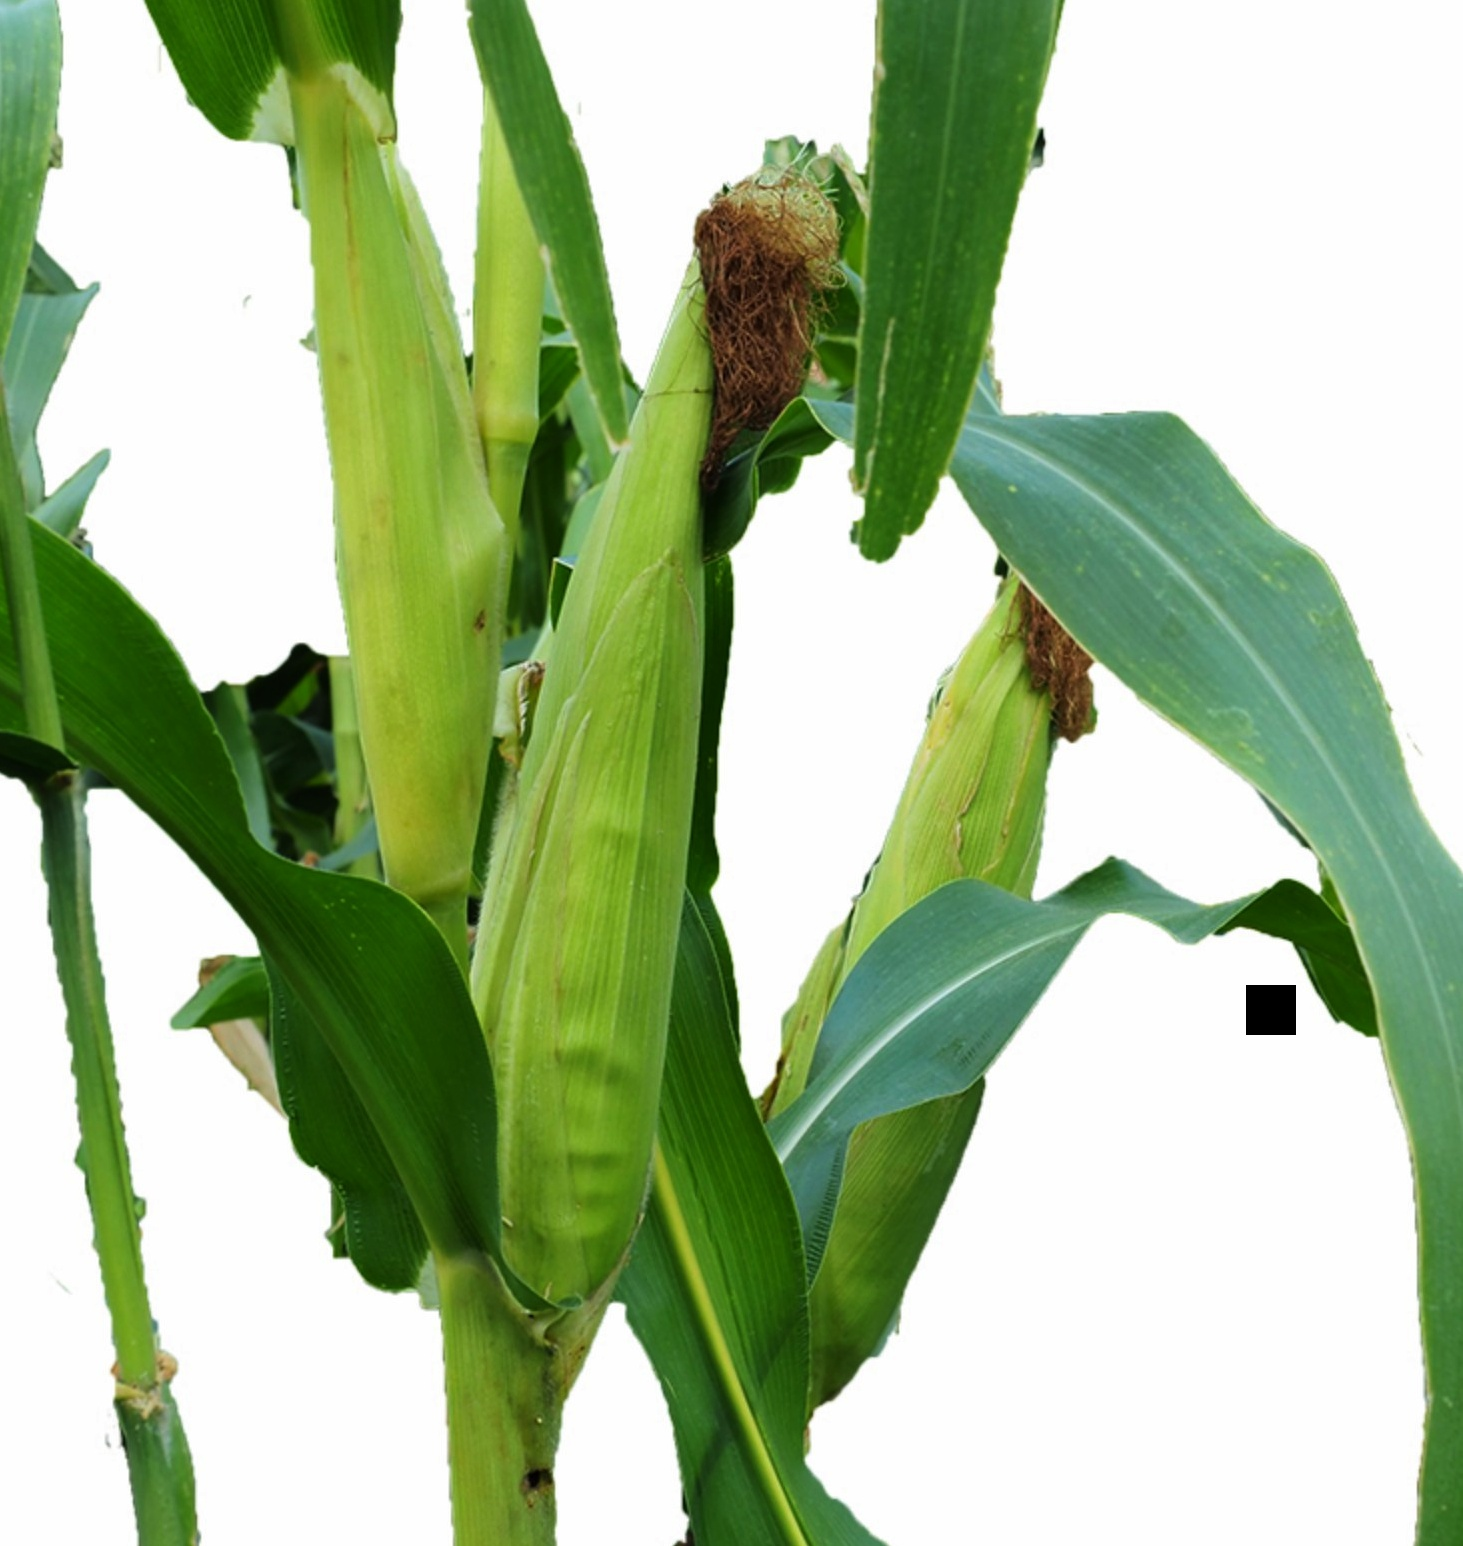corn_plant: (730, 444, 1162, 1479), (456, 144, 800, 1440), (242, 36, 498, 1276)
